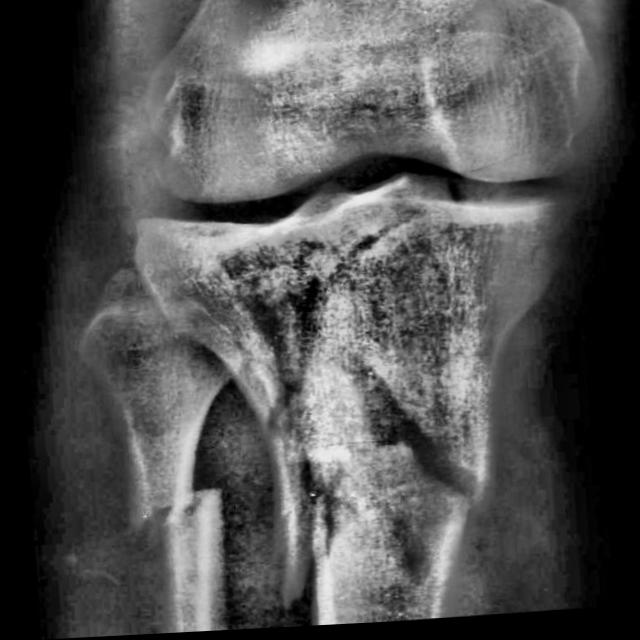fracture: (243, 213, 492, 609), (111, 483, 219, 546)
